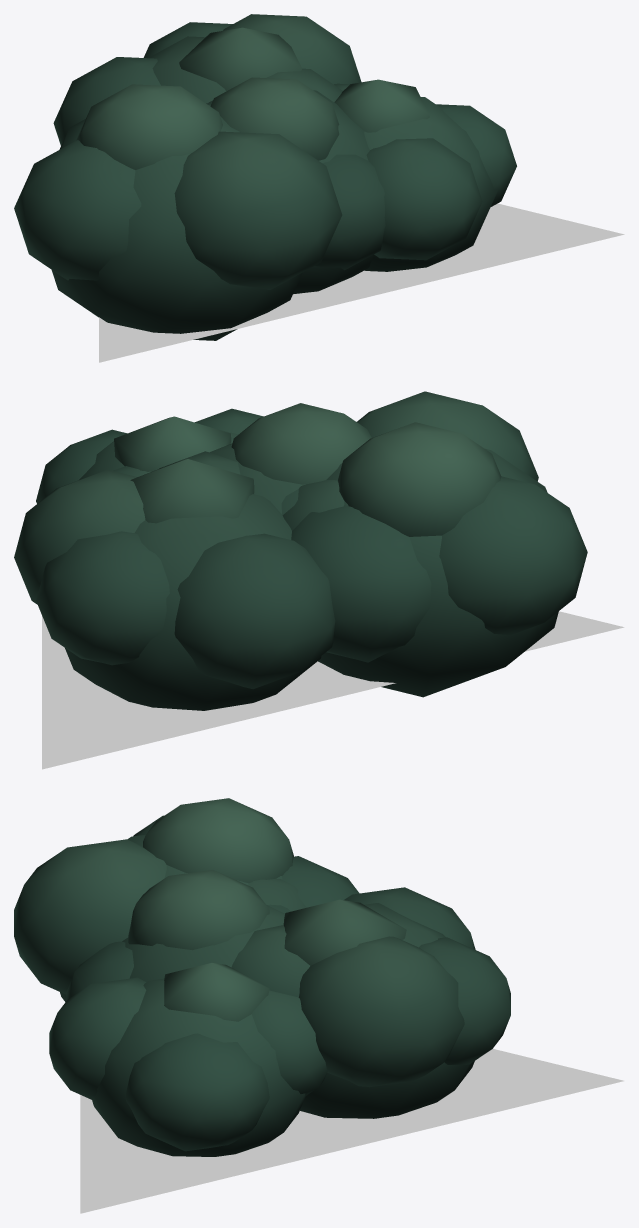
Rendered from MODULE_FULL_FOREST.fbx.
The picture shows the model from 3 angles, top to bottom: view 1: azimuth 30°, elevation 25°; view 2: azimuth 150°, elevation 25°; view 3: azimuth 270°, elevation 25°; orthographic projection. The views are drawn at different scales.
Visible parts, largest first — view 1: MODULE_FULL_FOREST_DECOR__export, MODULE_FULL_FOREST__export; view 2: MODULE_FULL_FOREST_DECOR__export, MODULE_FULL_FOREST__export; view 3: MODULE_FULL_FOREST_DECOR__export, MODULE_FULL_FOREST__export.
Boxes of the visible parts, left/top/right/bottom form: MODULE_FULL_FOREST_DECOR__export: left=14, top=14, right=516, bottom=340; MODULE_FULL_FOREST__export: left=99, top=203, right=624, bottom=362; MODULE_FULL_FOREST_DECOR__export: left=14, top=391, right=587, bottom=710; MODULE_FULL_FOREST__export: left=42, top=611, right=624, bottom=769; MODULE_FULL_FOREST_DECOR__export: left=14, top=798, right=510, bottom=1156; MODULE_FULL_FOREST__export: left=80, top=1049, right=623, bottom=1213.
Size of the model in its own units: 103 by 39.69 by 97.15.
